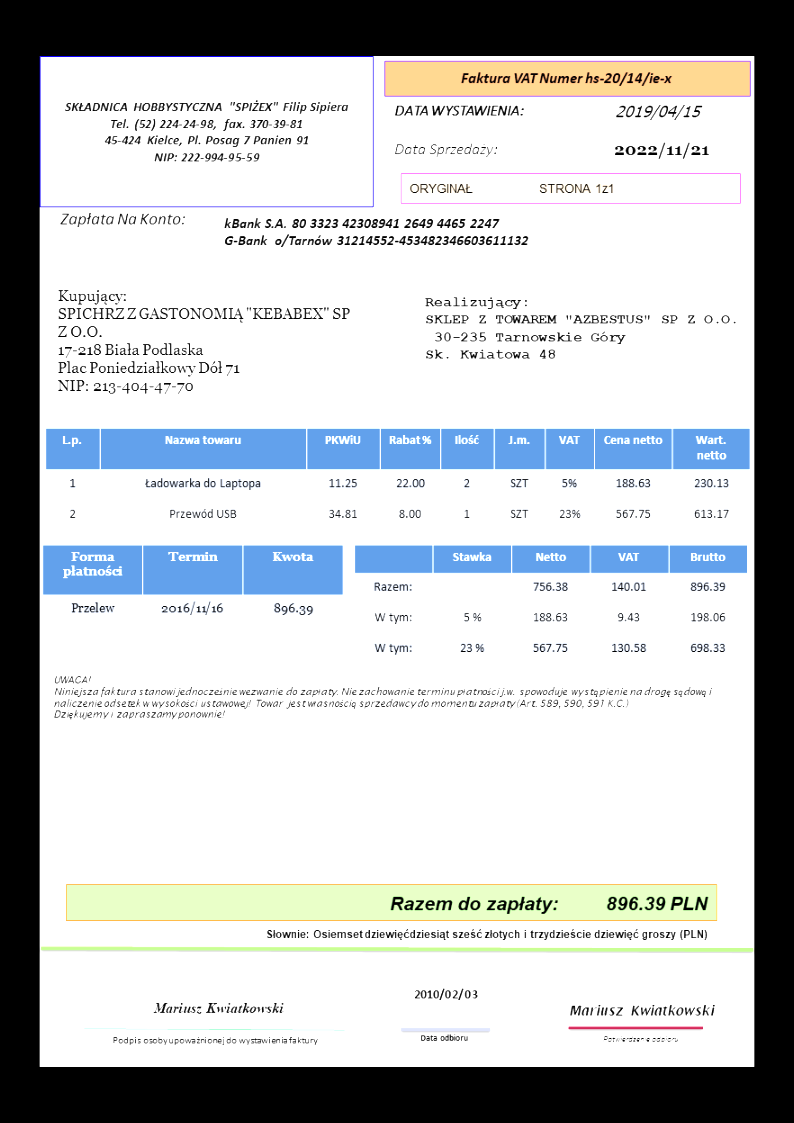Table: (43, 426, 752, 535), (353, 542, 747, 666), (42, 543, 343, 632)
TextBox: (51, 671, 716, 722), (52, 284, 356, 395), (420, 293, 737, 364), (63, 98, 350, 164), (221, 214, 531, 248), (264, 924, 712, 944), (387, 890, 712, 917), (458, 69, 672, 88), (109, 1031, 320, 1050), (407, 179, 618, 197), (567, 1001, 720, 1021), (150, 997, 286, 1017), (55, 209, 188, 228), (392, 100, 526, 118), (392, 139, 499, 160), (610, 141, 710, 162), (612, 101, 704, 121), (600, 1031, 680, 1048), (410, 985, 479, 1004), (417, 1031, 471, 1043)
